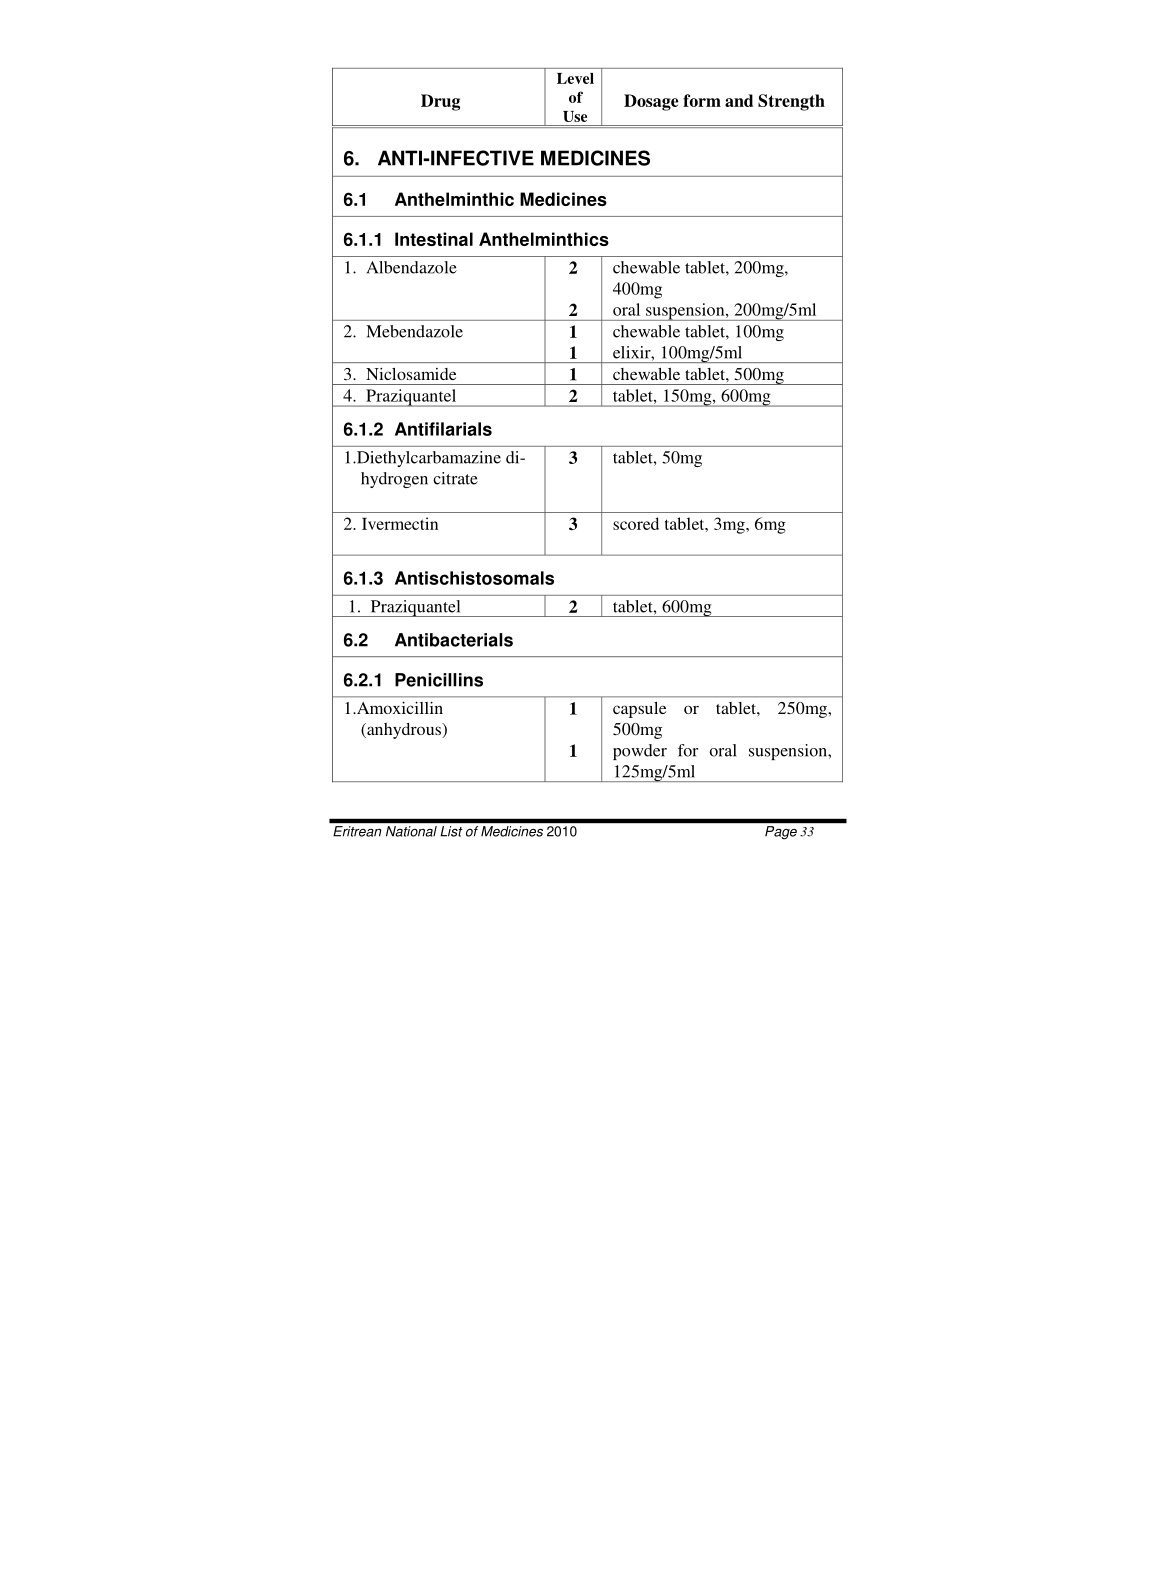merged_cells: (331, 67, 842, 785)
